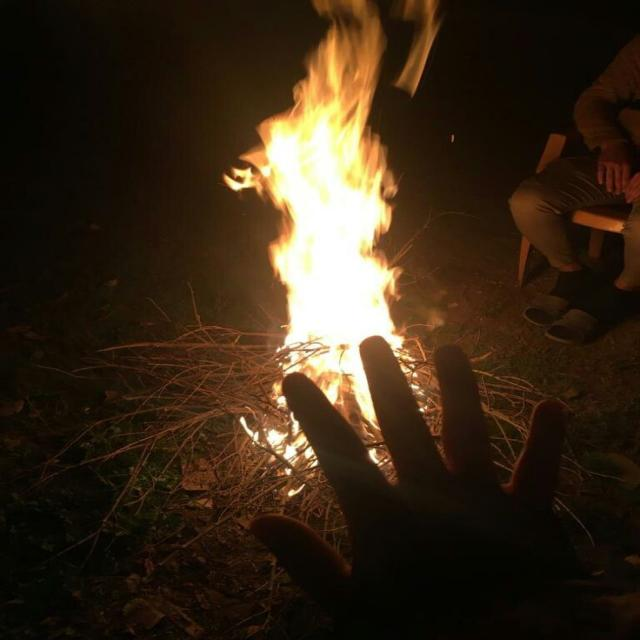fire: (225, 0, 441, 472)
